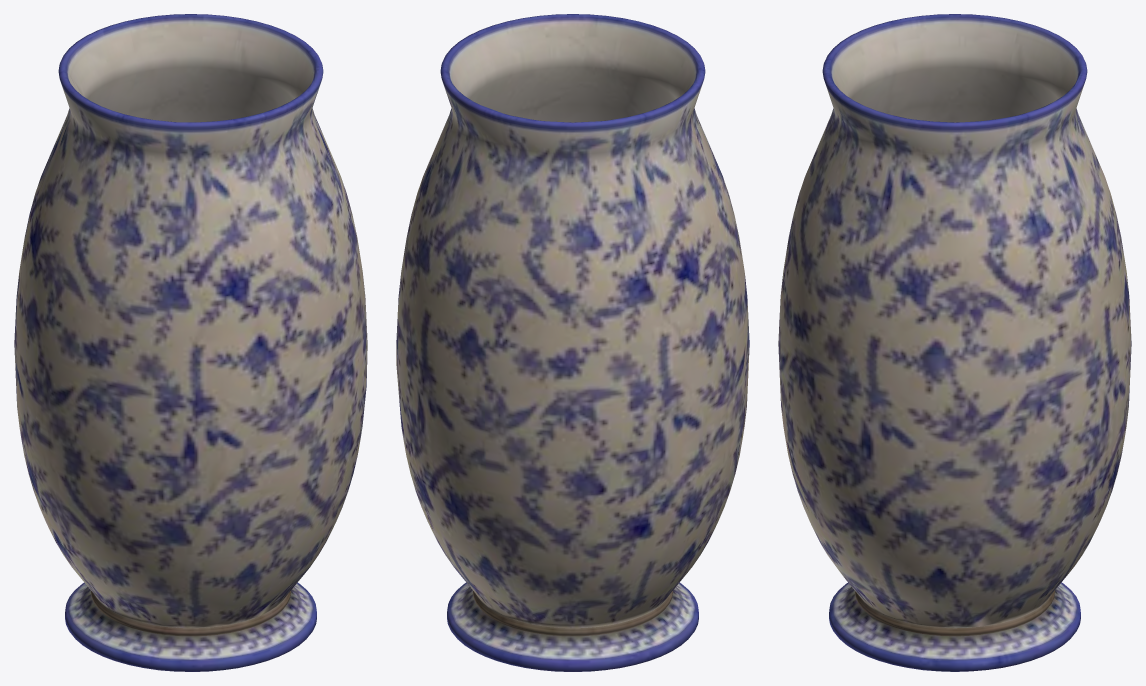
The model's file is vase.glb.
The picture shows the model from 3 angles, left to right: view 1: azimuth 30°, elevation 25°; view 2: azimuth 150°, elevation 25°; view 3: azimuth 270°, elevation 25°; orthographic projection.
Visible parts, largest first — view 1: antique_ceramic_vase_01; view 2: antique_ceramic_vase_01; view 3: antique_ceramic_vase_01.
Part boxes in pixels (bbox=[...]): antique_ceramic_vase_01: bbox=[14, 14, 367, 671]; antique_ceramic_vase_01: bbox=[396, 14, 749, 671]; antique_ceramic_vase_01: bbox=[778, 14, 1131, 671].
Bounding box in the file's own units: 0.255 × 0.4396 × 0.255.
Materials: 1 (1 with a texture image).
